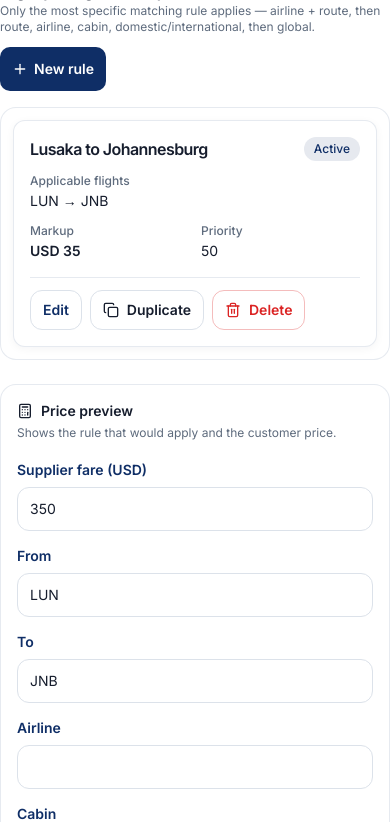
Test: admin pricing responsive layout › keeps the edit form fields and save/cancel controls available in a single-column mobile layout
Expected: the element that starts with "Lusaka to Johannesburg" is shown, x1=13 y1=120 x2=377 y2=347
Click the button "Edit". click: [56, 310]
box: x1=30 y1=290 x2=82 y2=330
(page scrolled)
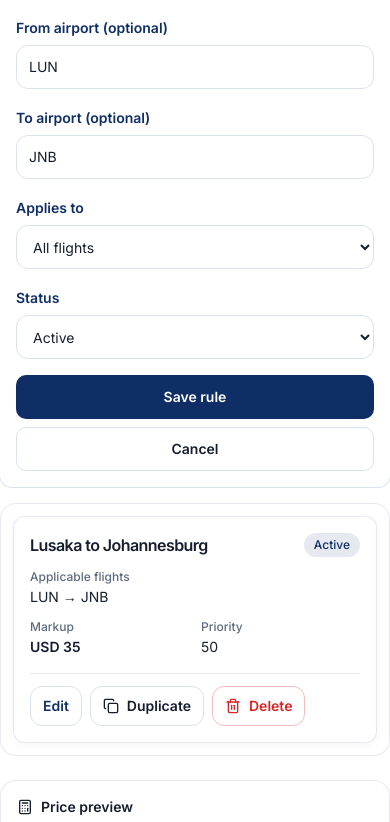
Now the button "Save rule" is shown, box x1=16 y1=375 x2=374 y2=419
Now the button "Cancel" is shown, box x1=16 y1=427 x2=374 y2=471
